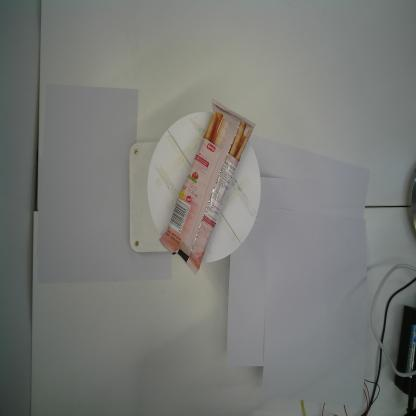Dessert: (156, 99, 258, 279)
